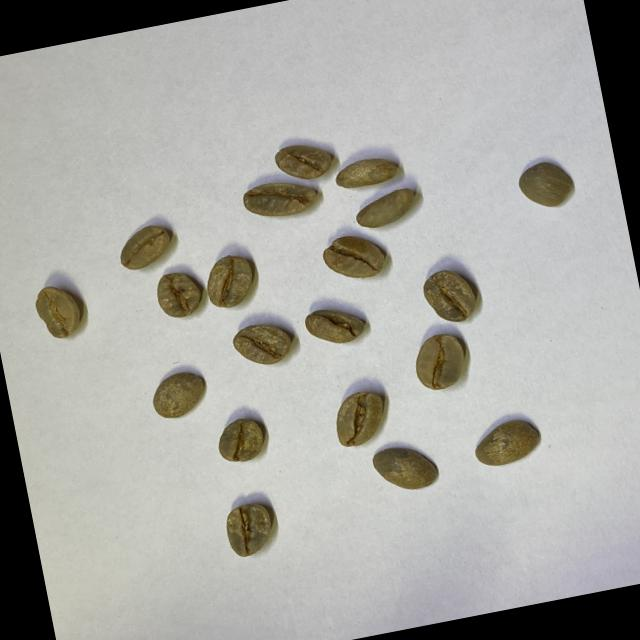bad: (28, 279, 88, 345), (220, 500, 280, 561), (301, 300, 369, 351)
good: (369, 437, 445, 500), (408, 328, 474, 394), (328, 386, 395, 451), (469, 414, 544, 472), (240, 173, 319, 226), (512, 156, 580, 217), (320, 228, 389, 286), (420, 264, 482, 328), (201, 252, 264, 314), (147, 366, 214, 424), (230, 317, 294, 372), (116, 220, 180, 272), (351, 186, 422, 231), (212, 413, 270, 468), (151, 267, 206, 322), (270, 138, 334, 183), (333, 154, 402, 192)
